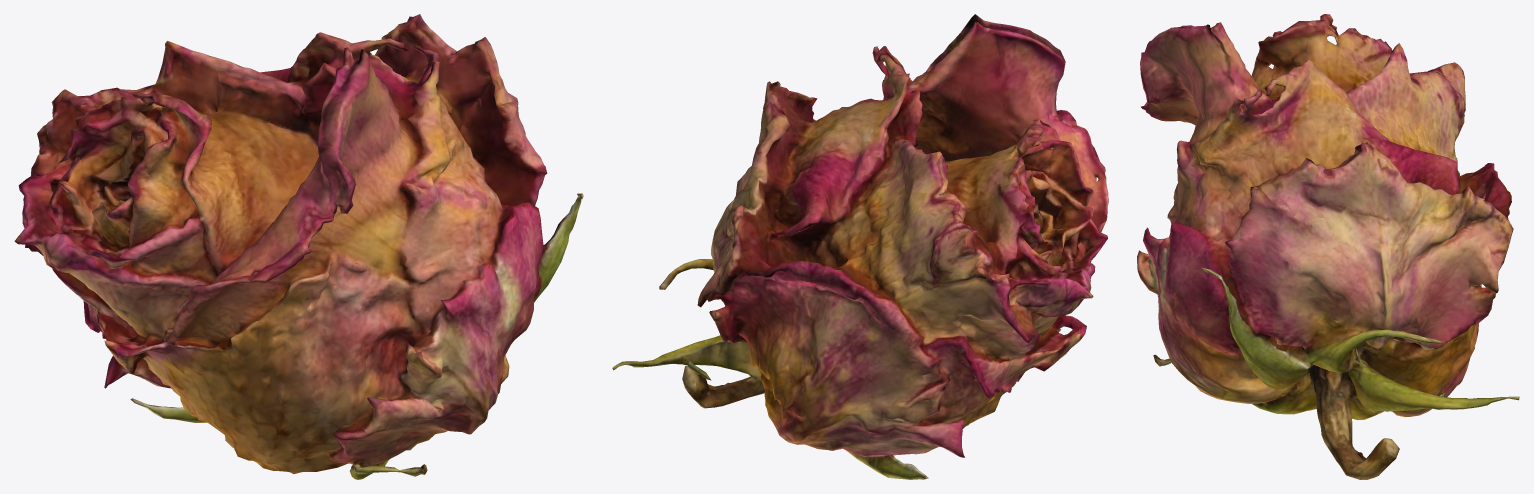
Rendered from dead_rose.glb.
3 renders of one model, left to right at view 1: azimuth 30°, elevation 25°; view 2: azimuth 150°, elevation 25°; view 3: azimuth 270°, elevation 25°, orthographic. The views are drawn at different scales.
Visible parts, largest first — view 1: dead-rose; view 2: dead-rose; view 3: dead-rose.
Part boxes in pixels (x1,y1,x2,y2): dead-rose: [14, 14, 583, 479]; dead-rose: [612, 14, 1108, 479]; dead-rose: [1137, 14, 1519, 479].
Bounding box in the file's own units: 21.95 × 19.91 × 18.49.
1 material, 1 textured.
